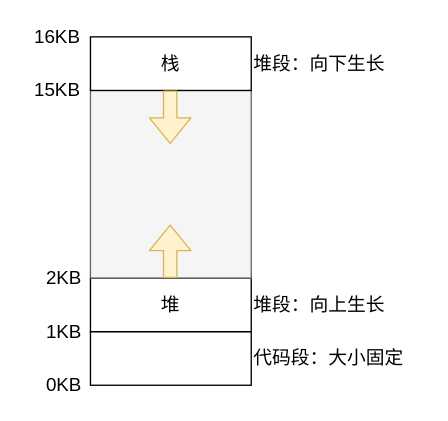
Some shapes in this 448 by 421 pixel diagram are drawn without their labels. The centre of each missing label's shape, as x and y in pixels:
未分配: the point at 170,183
程序代码: the point at 170,357
